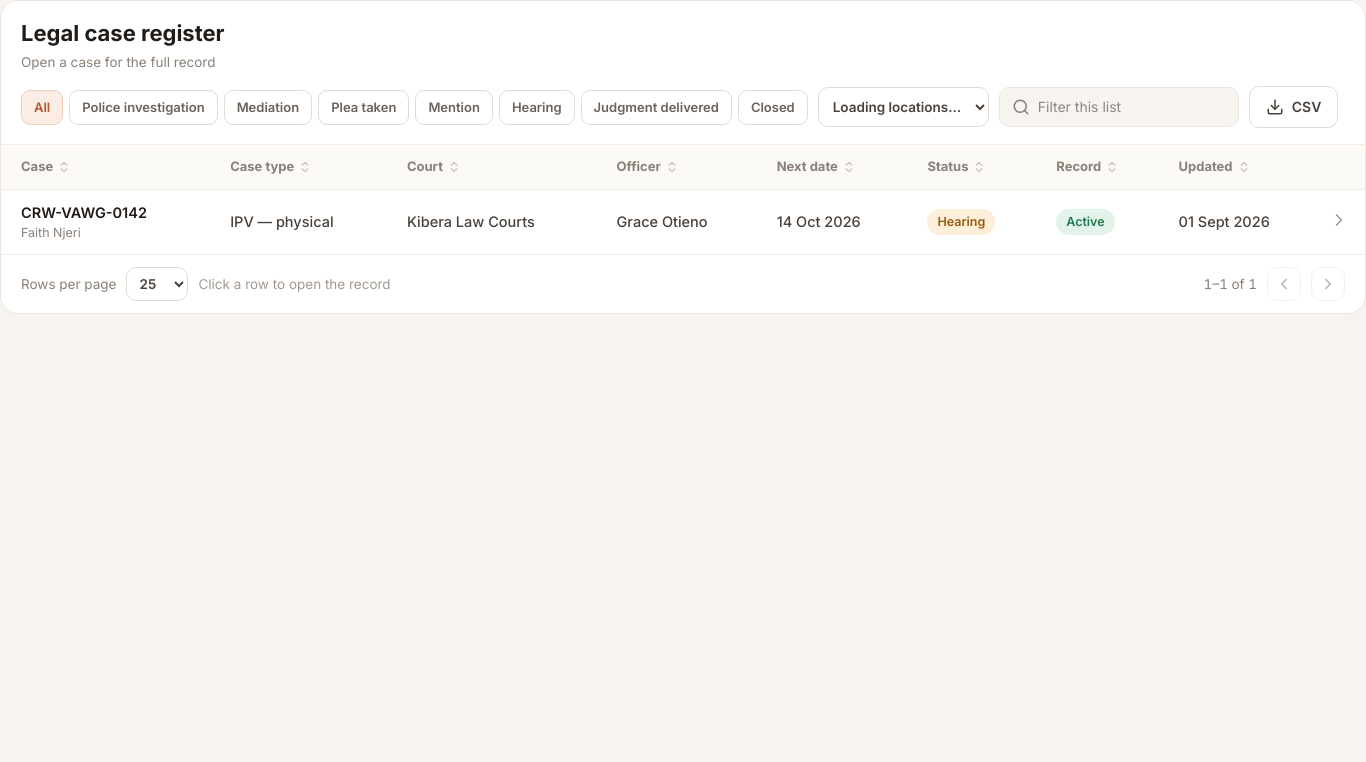
Scenario: VAWG case register › opens the record drawer with the reference header and fields
This screenshot has width=1366, height=762.
Click the button named "Open CRW-VAWG-0142".
click(1339, 220)  # box [1327,208,1351,232]
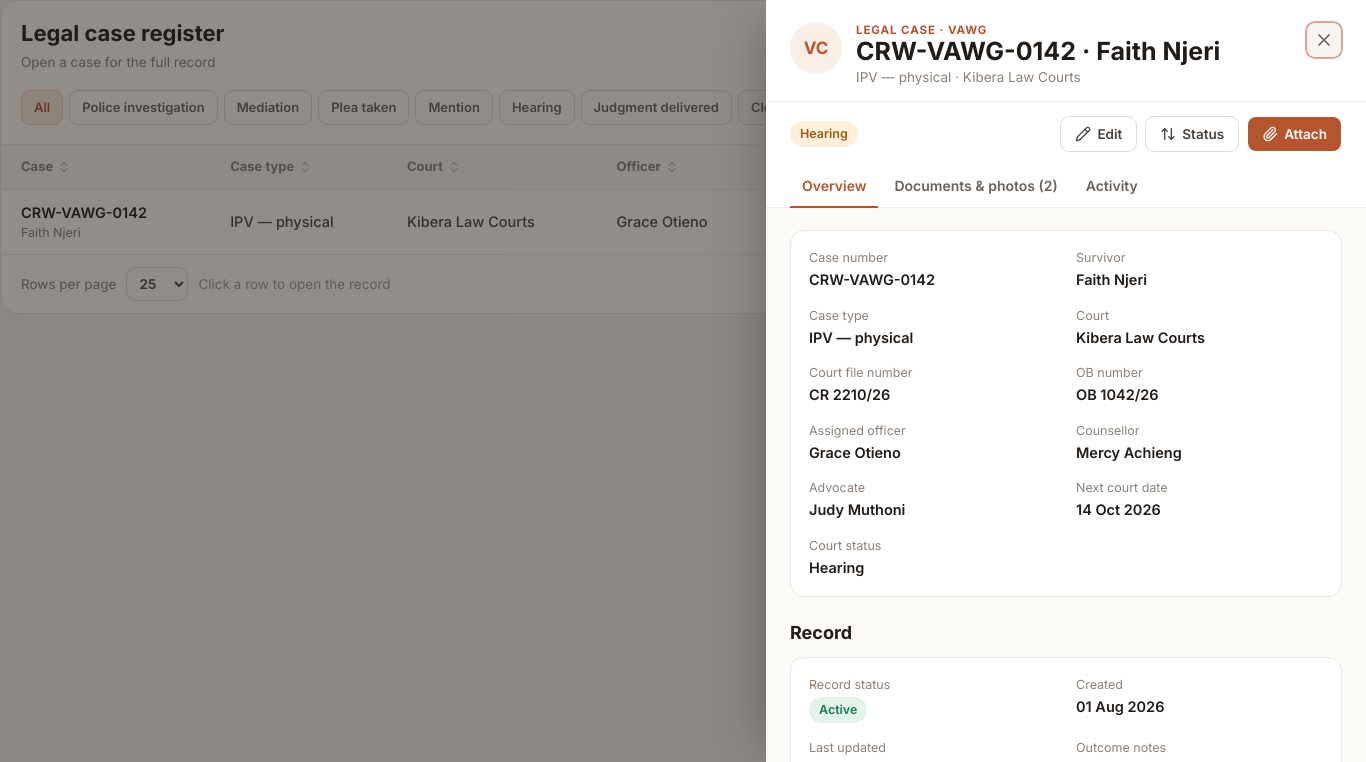
Expected: the tab "Documents & photos (2)" is shown, [882,166,1070,208]
Expected: the dialog shows "Legal case · VAWG", [856,23,987,37]
Expected: the dialog shows "CRW-VAWG-0142 · Faith Njeri", [856,36,1220,66]
